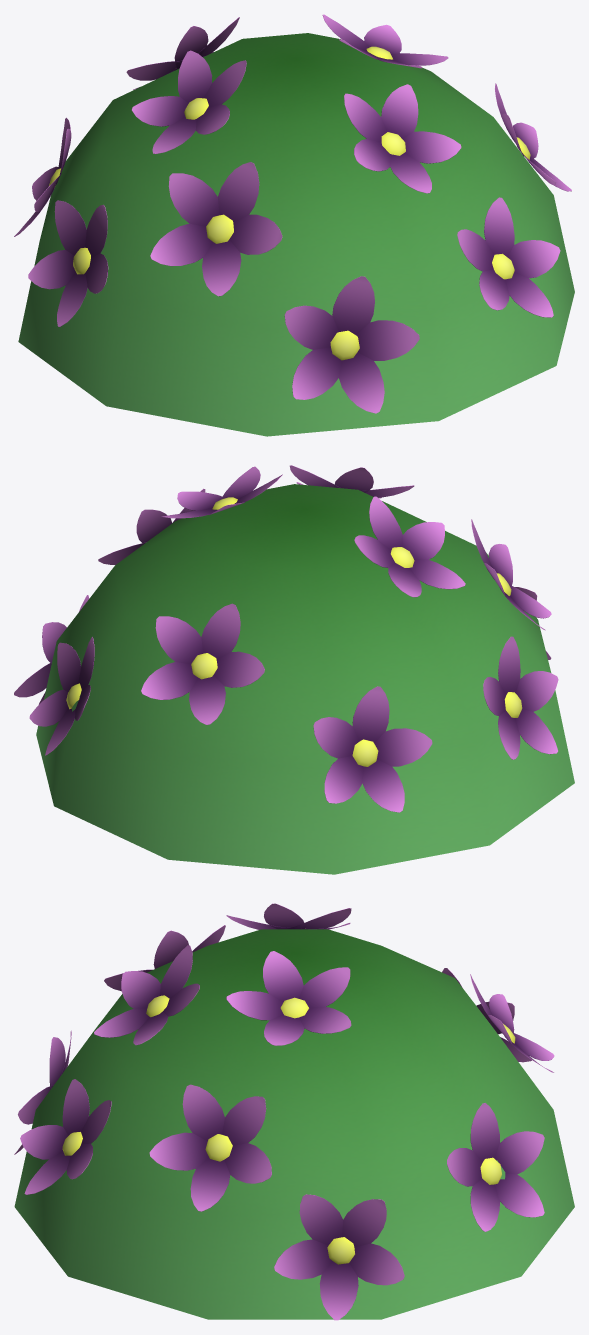
Rendered from Bush_Purple.fbx.
3 views of the same model, one above another, from view 1: azimuth 30°, elevation 25°; view 2: azimuth 150°, elevation 25°; view 3: azimuth 270°, elevation 25° (orthographic). The views are drawn at different scales.
Parts seen in each view (by area): view 1: Bush, Plane.017Shape3, Plane.017Shape2, Flower3, Flower4, Flower1, Flower, Flower2, Plane.017Shape4, Flower5, Plane.017Shape1; view 2: Bush, Plane.017Shape1, Plane.017Shape4, Flower1, Flower, Plane.017Shape5, Flower2, Plane.017Shape2, Flower3, Flower6, Flower5; view 3: Bush, Flower6, Flower5, Plane.017Shape5, Flower2, Flower4, Flower3, Flower1, Plane.017Shape4, Plane.017Shape2, Plane.017Shape3, Plane.017Shape1.
Boxes of the visible parts, box(x1,y1,x2,y2) form: Bush: box(18, 33, 574, 436); Plane.017Shape3: box(284, 276, 419, 413); Plane.017Shape2: box(150, 162, 282, 296); Flower3: box(344, 84, 461, 193); Flower4: box(457, 197, 560, 317); Flower1: box(132, 50, 246, 153); Flower: box(28, 200, 108, 326); Flower2: box(322, 14, 448, 68); Plane.017Shape4: box(126, 17, 239, 89); Flower5: box(495, 83, 571, 191); Plane.017Shape1: box(14, 117, 71, 236); Bush: box(36, 484, 574, 874); Plane.017Shape1: box(313, 686, 432, 812); Plane.017Shape4: box(141, 603, 264, 724); Flower1: box(354, 496, 465, 597); Flower: box(483, 636, 558, 759); Plane.017Shape5: box(29, 637, 94, 755); Flower2: box(161, 466, 282, 518); Plane.017Shape2: box(471, 519, 551, 630); Flower3: box(289, 465, 414, 498); Flower6: box(14, 595, 89, 704); Flower5: box(98, 488, 205, 564); Bush: box(14, 929, 574, 1319); Flower6: box(274, 1194, 404, 1320); Flower5: box(149, 1084, 271, 1211); Plane.017Shape5: box(447, 1103, 544, 1231); Flower2: box(226, 951, 351, 1045); Flower4: box(20, 1079, 111, 1194); Flower3: box(94, 945, 199, 1045); Flower1: box(226, 903, 351, 929); Plane.017Shape4: box(470, 974, 554, 1072); Plane.017Shape2: box(104, 925, 225, 991); Plane.017Shape3: box(14, 1030, 71, 1154); Plane.017Shape1: box(442, 968, 531, 1062).
Bounding box in the file's own units: 204 × 108 × 200.
